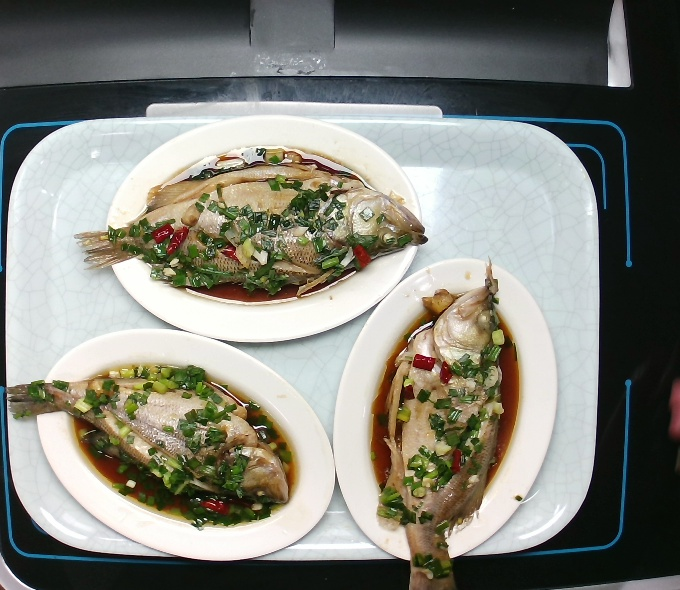wcq-LuYu: (69, 141, 431, 309), (1, 352, 299, 535), (368, 254, 525, 590)
